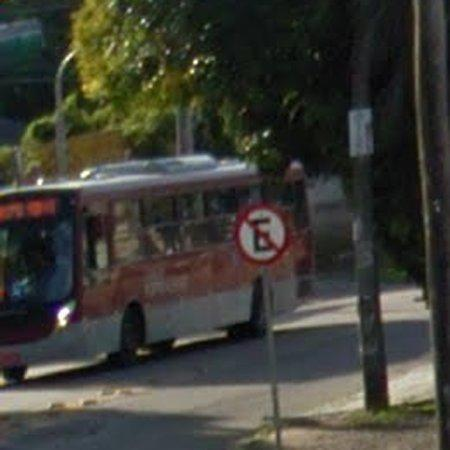buses: (0, 155, 262, 383)
